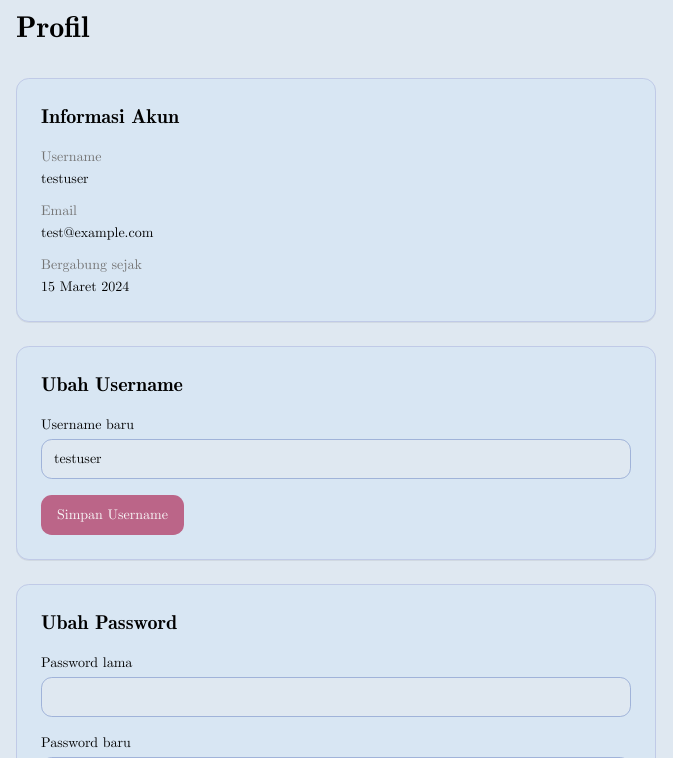
ProfilePage › ubah username › berhasil update username dan memanggil login dengan data baru
This screenshot has width=673, height=758.
Replace the text in the field labelled "Username baru" with "newusername" at (336, 459), box [41, 439, 631, 479]
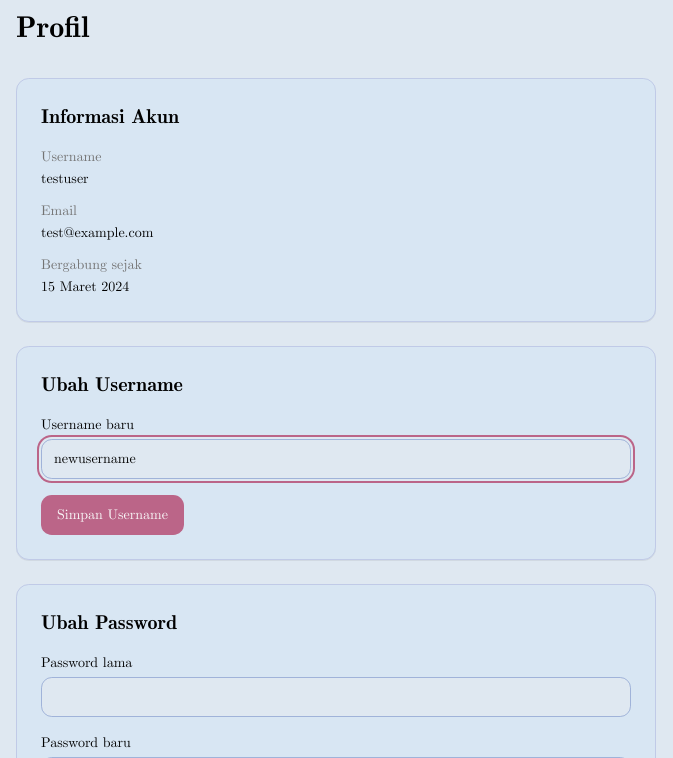
Click the button "Simpan Username" at (112, 515), box [41, 495, 184, 535]
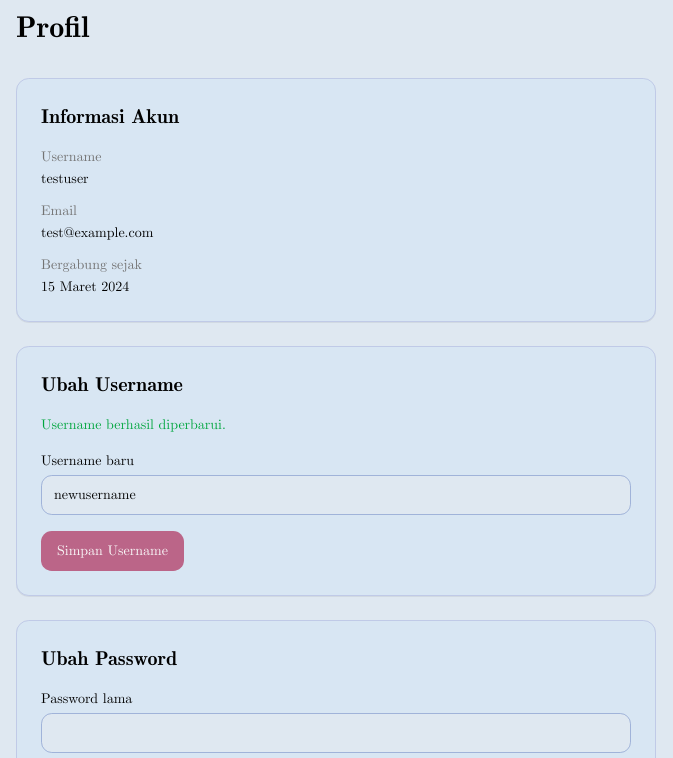
Now the text "Username berhasil diperbarui." is shown, box [41, 418, 226, 432]
